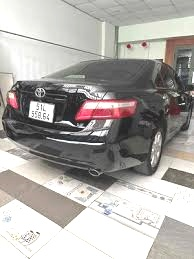Bien-so: (32, 100, 58, 122)
